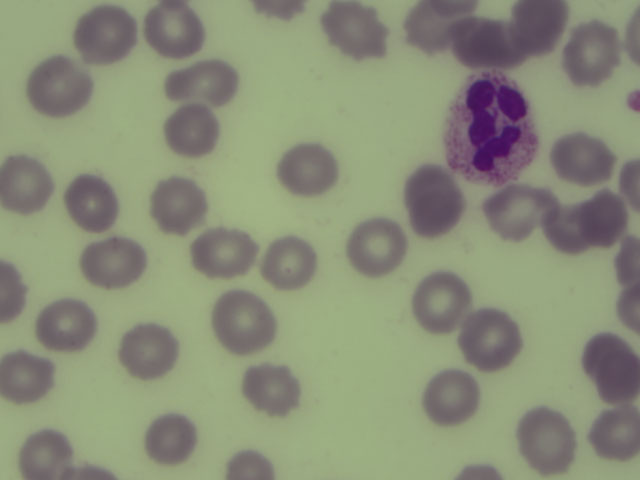Platelets: (624, 85, 640, 119)
RBC: (546, 133, 622, 186), (162, 56, 239, 102), (452, 13, 515, 64), (407, 175, 463, 229), (565, 27, 621, 81), (488, 184, 544, 238), (584, 342, 640, 396), (519, 414, 575, 468), (423, 371, 479, 425), (463, 313, 519, 367), (414, 274, 470, 328), (346, 219, 402, 273), (276, 143, 332, 197), (143, 412, 199, 466), (243, 361, 299, 415), (216, 295, 272, 349), (121, 322, 177, 376), (36, 299, 92, 353), (83, 236, 139, 290), (261, 237, 317, 291), (196, 225, 252, 279), (150, 176, 206, 230), (63, 176, 119, 230), (29, 59, 85, 113), (73, 6, 129, 60), (165, 105, 221, 159), (145, 1, 201, 55), (325, 3, 381, 57), (589, 403, 640, 462), (1, 350, 56, 404), (509, 1, 565, 54), (403, 1, 459, 54), (1, 157, 55, 211), (15, 433, 74, 479), (583, 190, 629, 245), (545, 206, 588, 257), (223, 443, 274, 479), (1, 261, 30, 321), (609, 238, 640, 294)
WBC: (445, 70, 540, 184)
